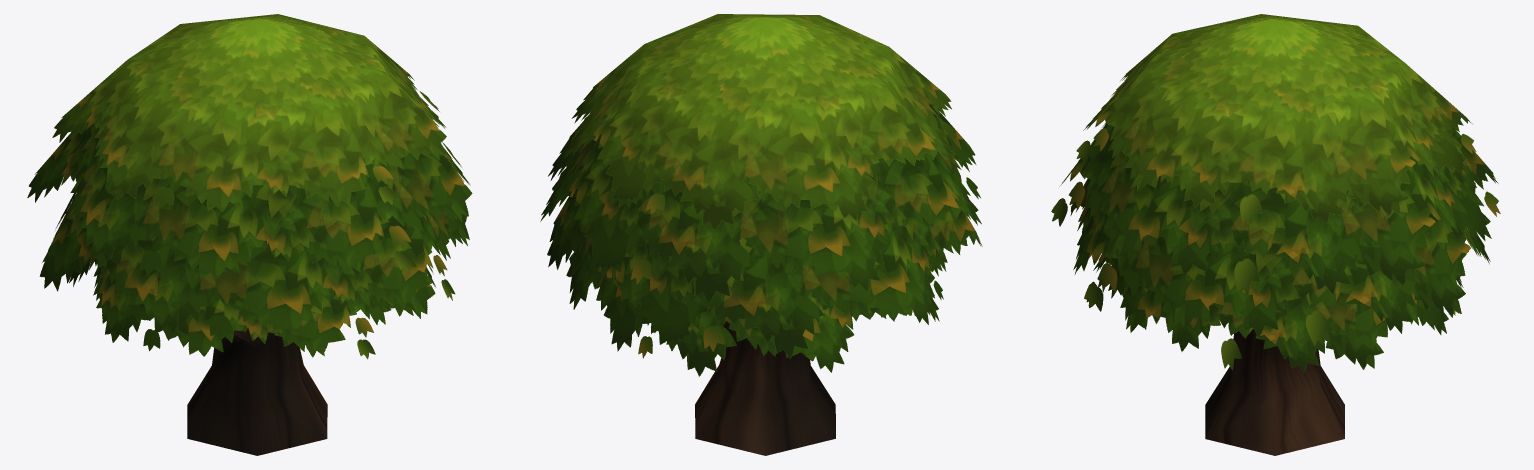
File: tree1.fbx
The picture shows the model from 3 angles, left to right: view 1: azimuth 30°, elevation 25°; view 2: azimuth 150°, elevation 25°; view 3: azimuth 270°, elevation 25°; orthographic projection.
Visible parts, largest first — view 1: BUSH_TREE1_3, BUSH_TREE1_2, BUSH_TREE1_1, TRUNK, BUSH_TREE1; view 2: BUSH_TREE1_3, BUSH_TREE1_2, BUSH_TREE1_1, TRUNK, BUSH_TREE1; view 3: BUSH_TREE1_3, BUSH_TREE1_2, BUSH_TREE1_1, TRUNK, BUSH_TREE1.
Part boxes in pixels (x1,y1,x2,y2): BUSH_TREE1_3: (52,14,446,211); BUSH_TREE1_2: (27,123,472,279); BUSH_TREE1_1: (39,192,469,340); TRUNK: (187,327,327,455); BUSH_TREE1: (69,257,435,359); BUSH_TREE1_3: (564,14,957,230); BUSH_TREE1_2: (540,103,981,302); BUSH_TREE1_1: (547,189,982,358); TRUNK: (695,321,835,455); BUSH_TREE1: (579,248,947,376); BUSH_TREE1_3: (1076,14,1476,224); BUSH_TREE1_2: (1051,122,1500,295); BUSH_TREE1_1: (1070,179,1490,346); TRUNK: (1205,329,1344,455); BUSH_TREE1: (1086,254,1463,373).
Size of the model in its own units: 111 by 101 by 111.
Materials: 3 (3 with a texture image).
